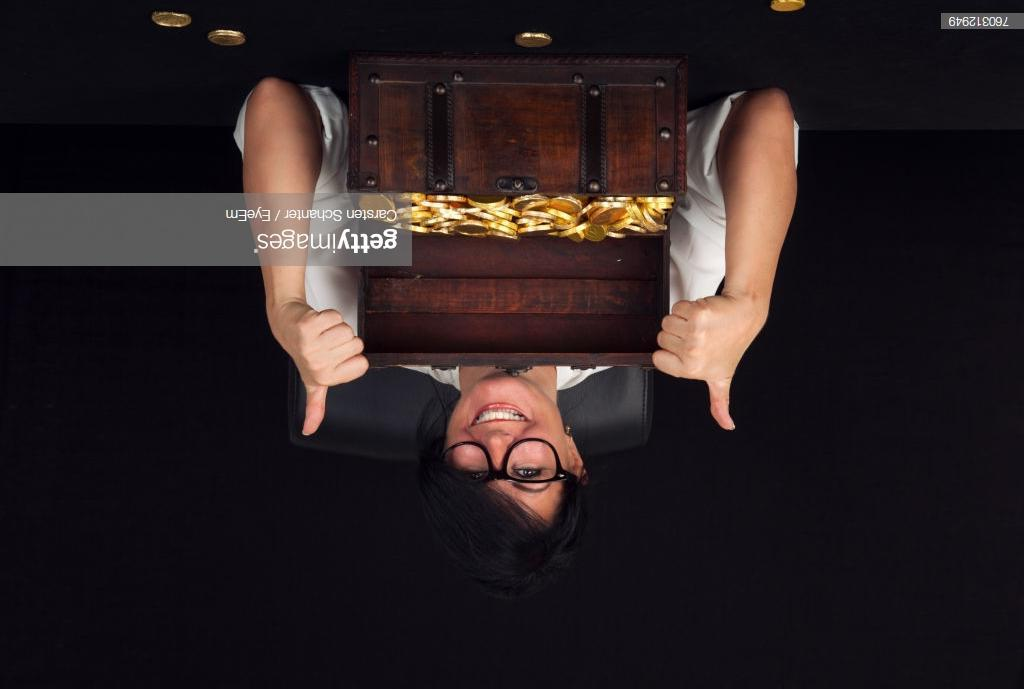thumbsdown: (651, 301, 737, 433), (300, 309, 369, 437)
